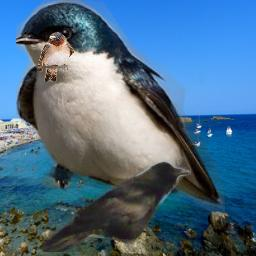Crow: (42, 160, 191, 252)
Swallow: (16, 0, 225, 222), (38, 32, 74, 82)
